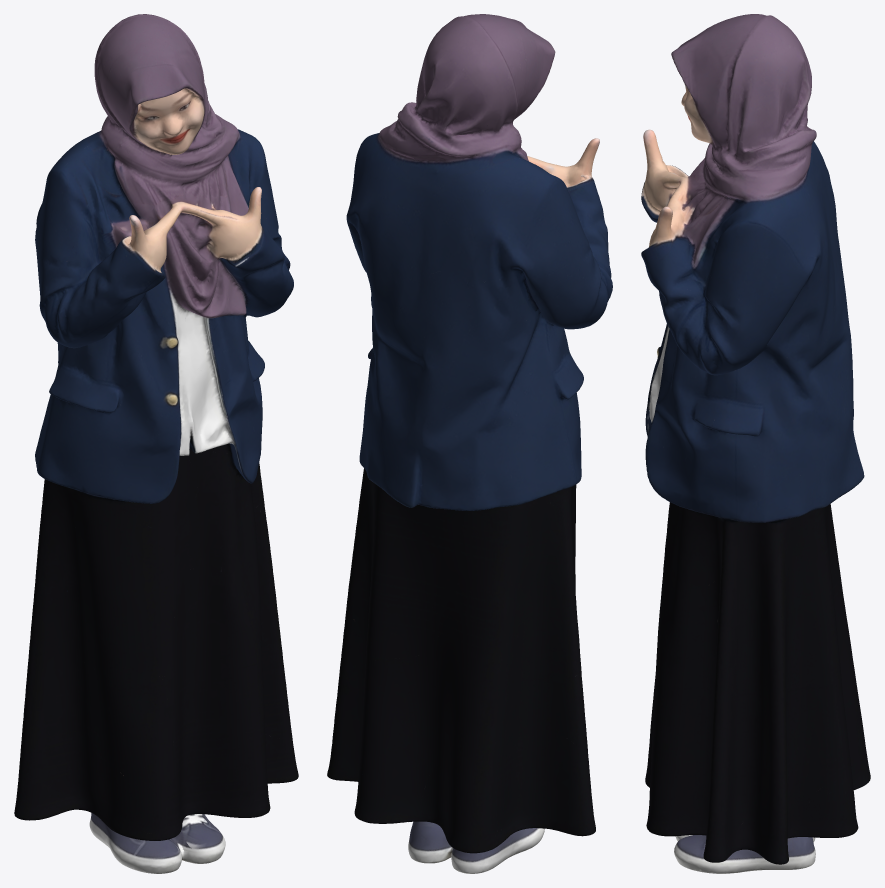
Rendered from Meshy_AI_Confident_Student_Por_1017234916_texture.glb.
The picture shows the model from 3 angles, left to right: view 1: azimuth 30°, elevation 25°; view 2: azimuth 150°, elevation 25°; view 3: azimuth 270°, elevation 25°; orthographic projection.
Bounding box in the file's own units: 0.6224 × 1.9 × 0.4758.
Materials: 1 (1 with a texture image).
